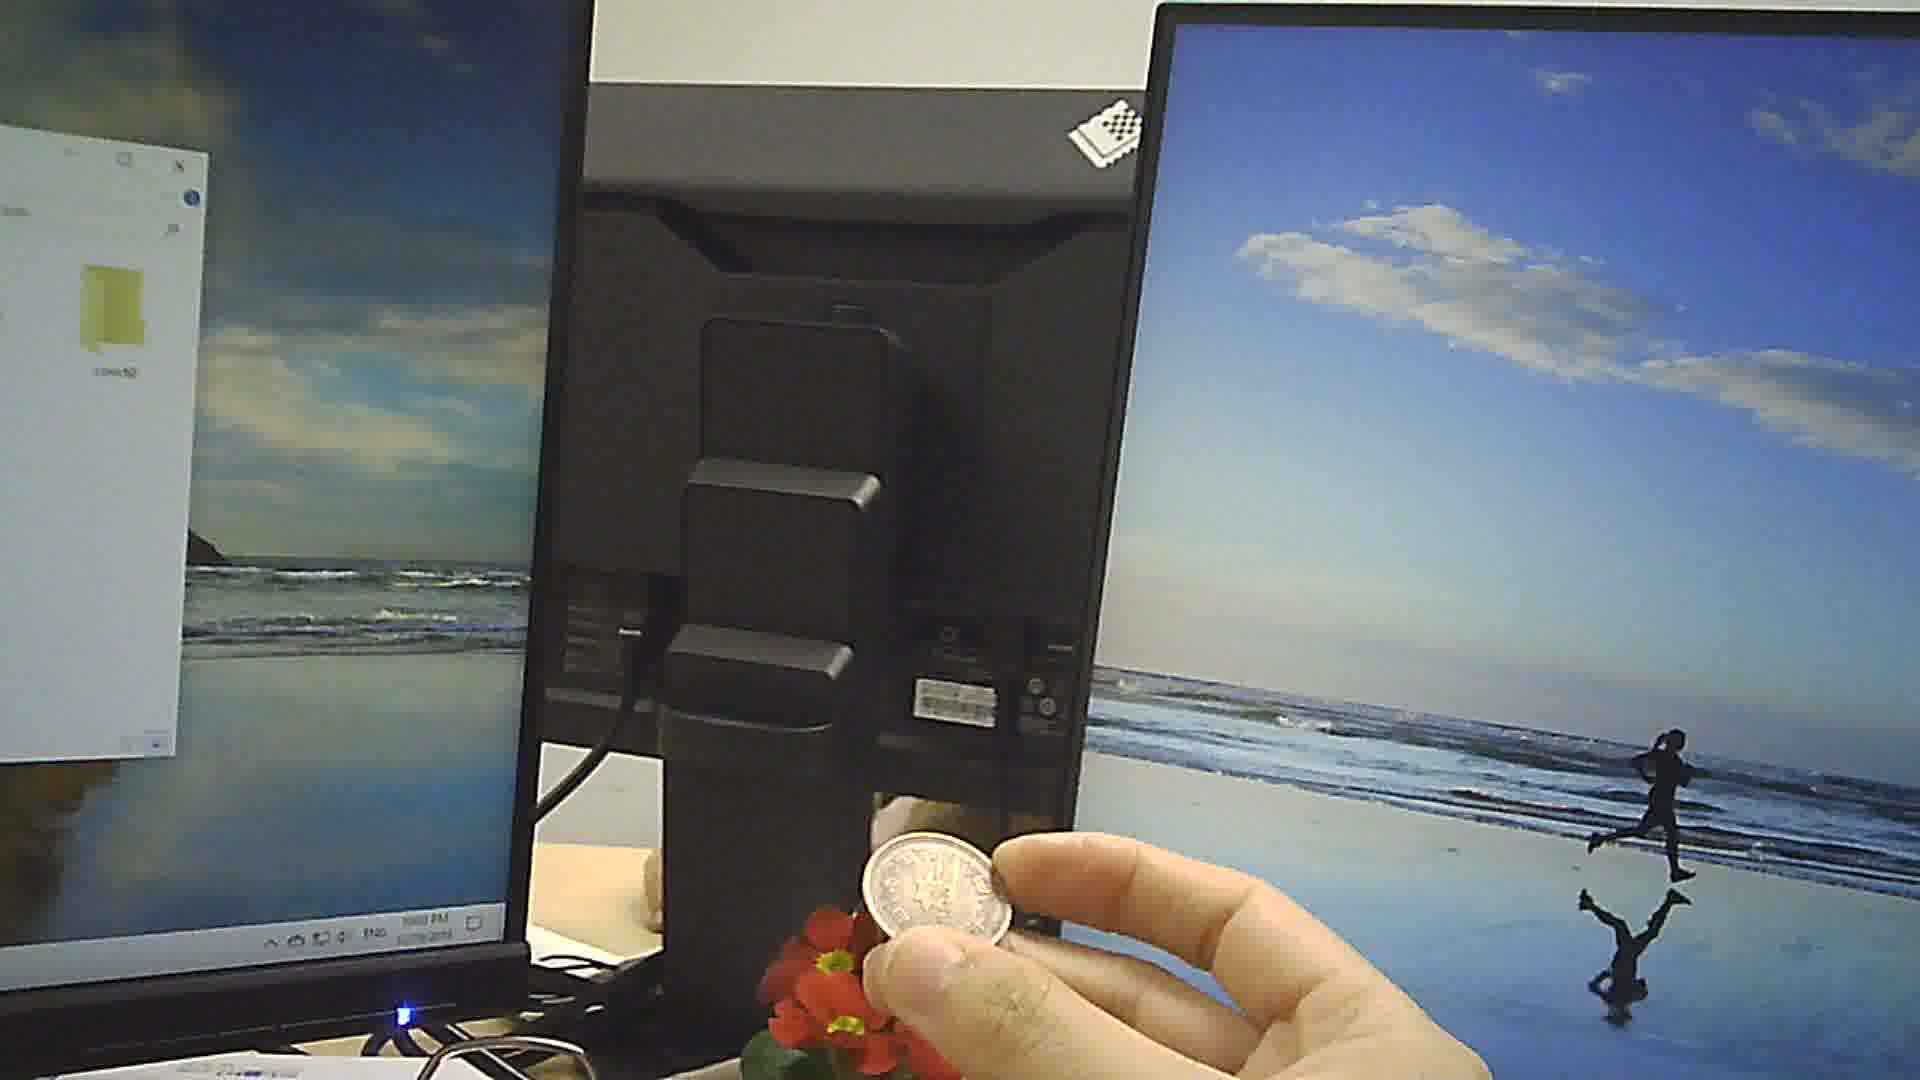10 Yen: (855, 824, 1025, 952)
